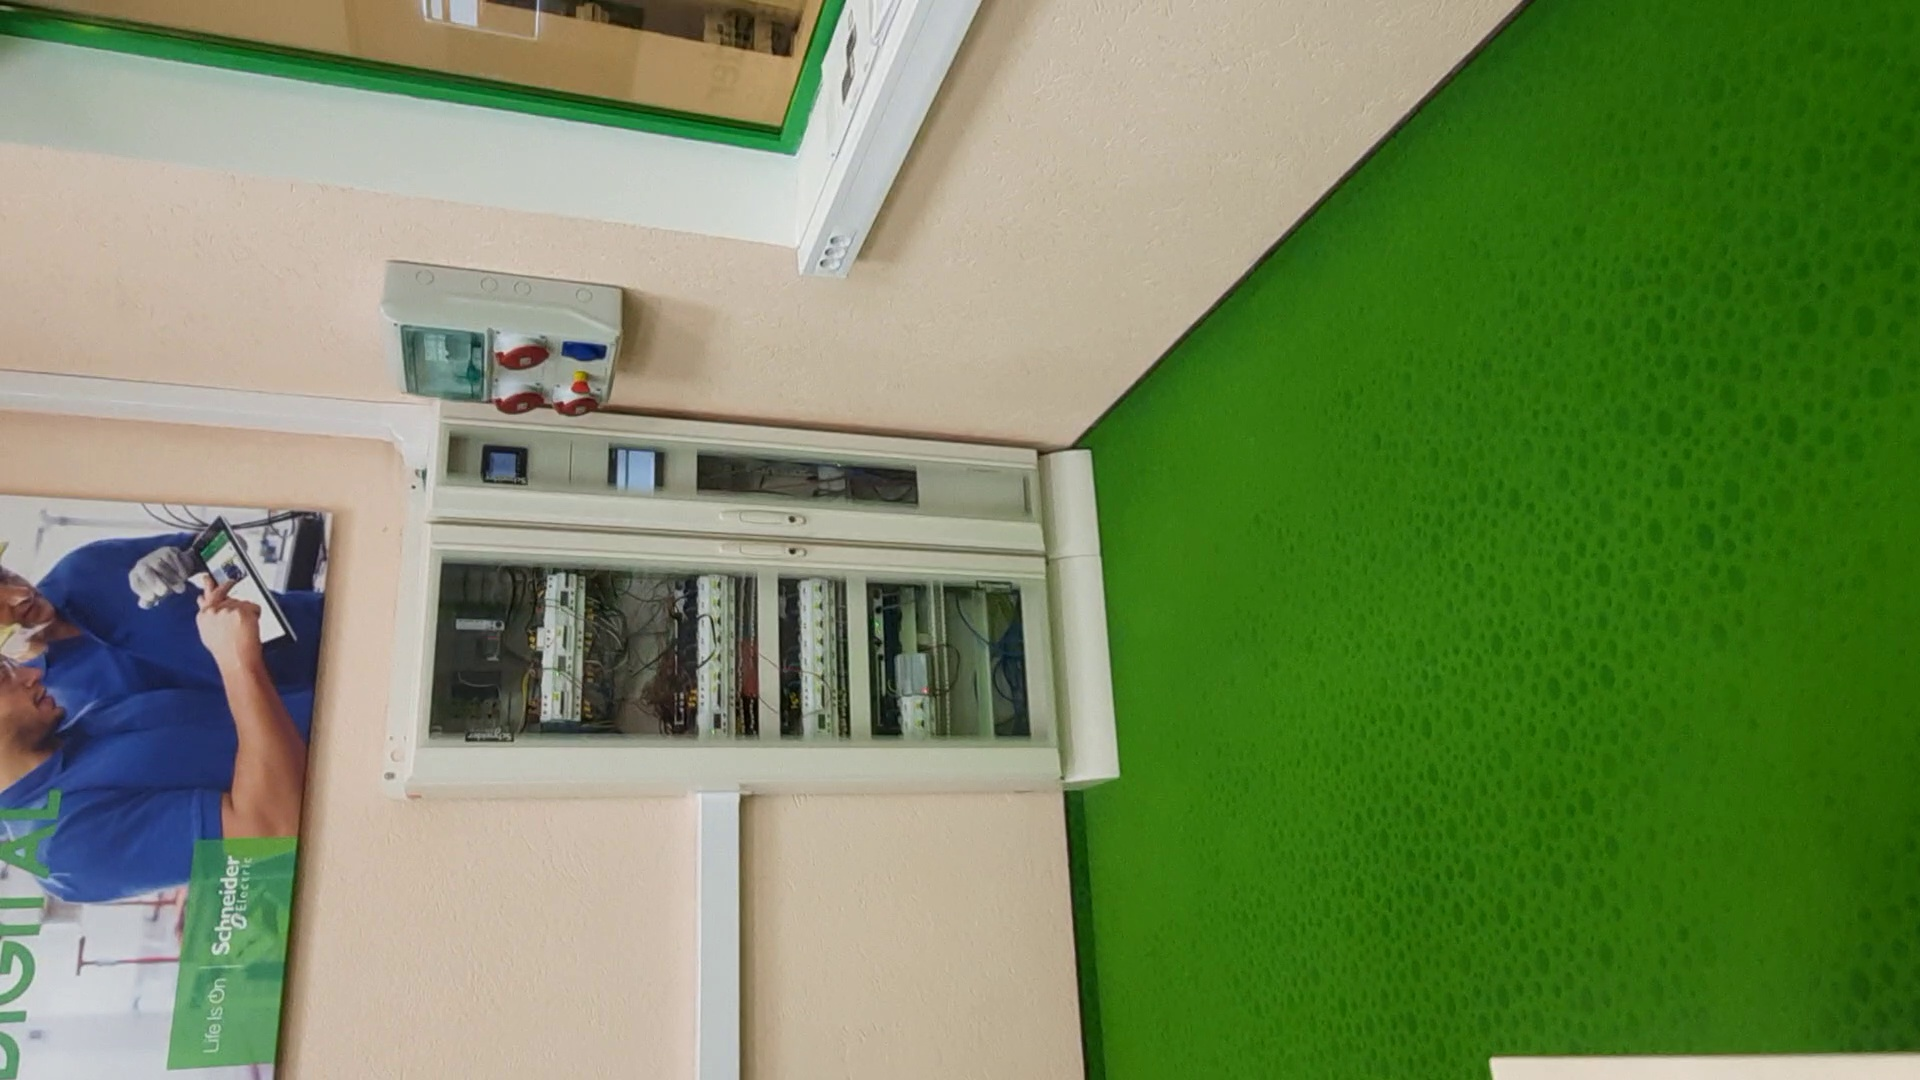stand1: (398, 407, 1120, 798)
